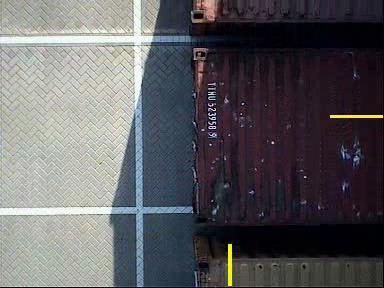groundmarker_2: (45, 46, 128, 113)
